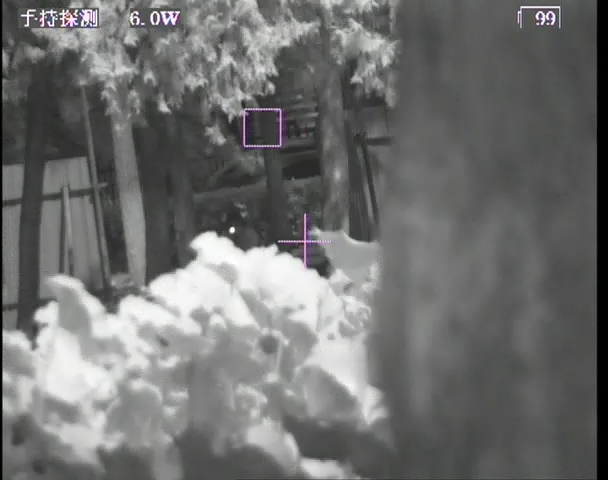my: (227, 225, 237, 235)
